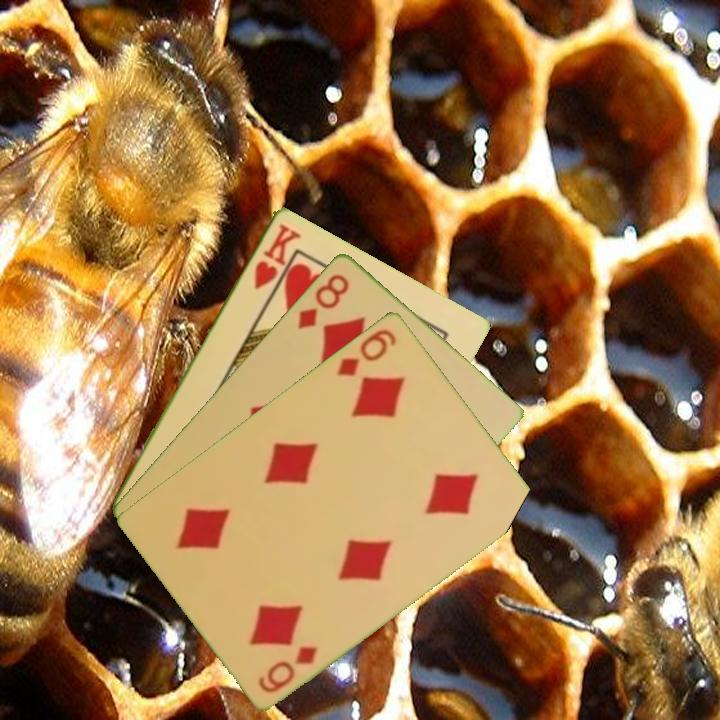6d: (254, 641, 321, 696), (333, 324, 399, 379)
8d: (294, 269, 352, 332)
Kh: (250, 219, 303, 292)
